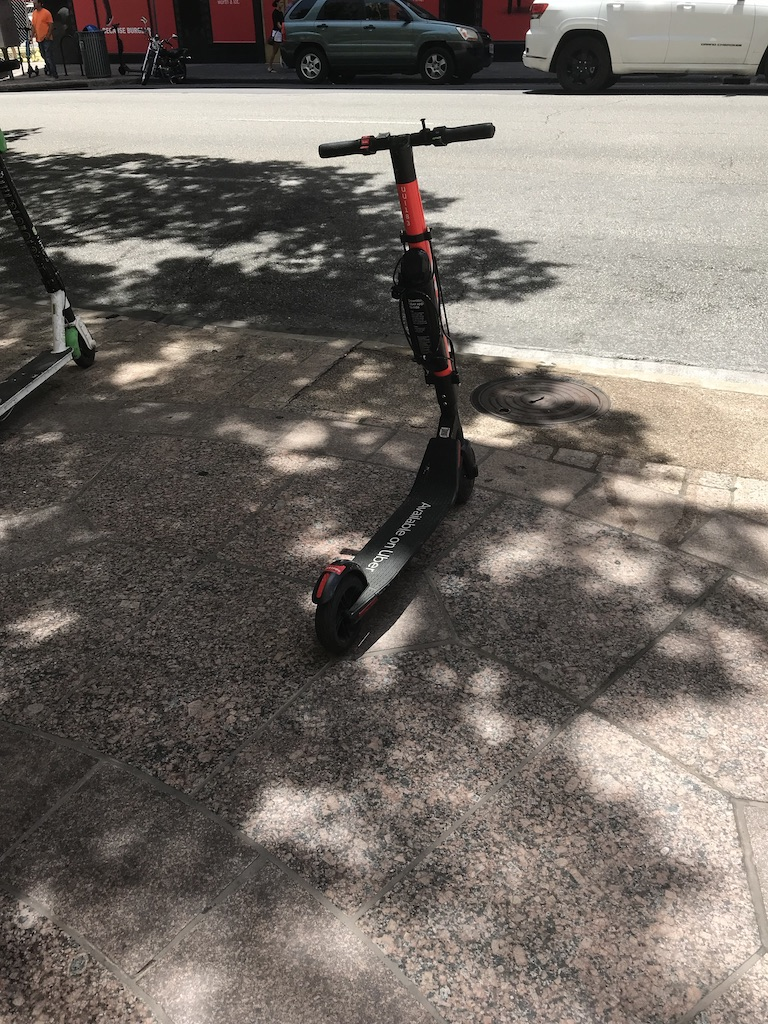scooter: (311, 122, 502, 650), (2, 141, 96, 418)
